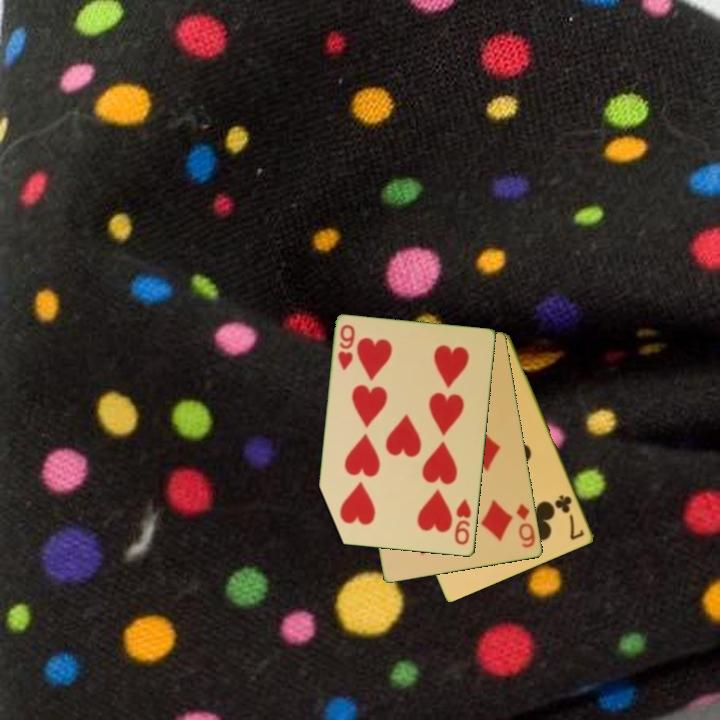6d: (513, 500, 538, 551)
7c: (552, 491, 587, 543)
9h: (451, 496, 474, 548), (335, 321, 358, 373)
